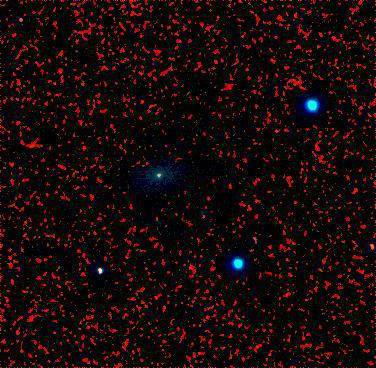star: (113, 239, 143, 269)
